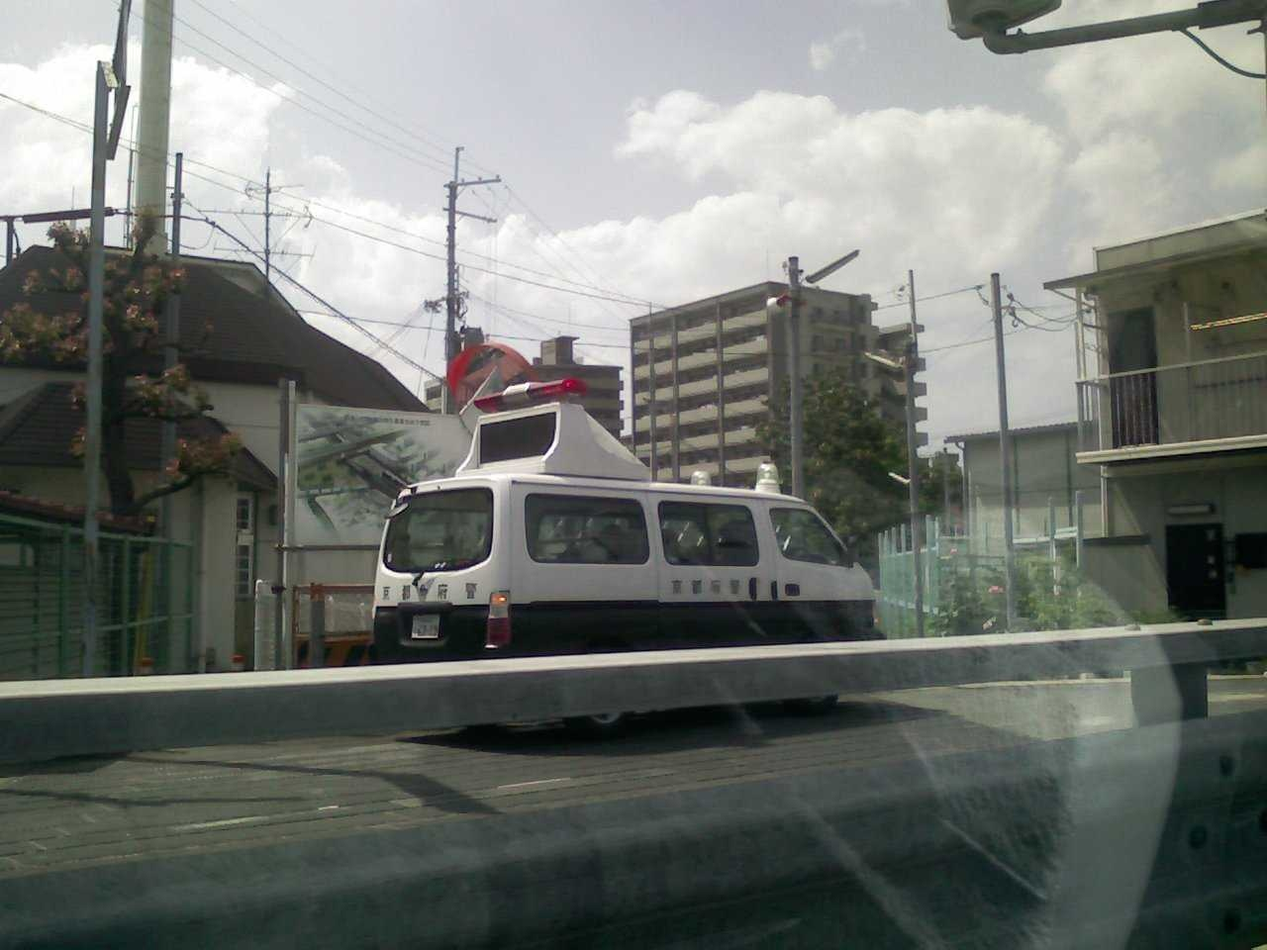Police Van: (333, 359, 890, 705)
